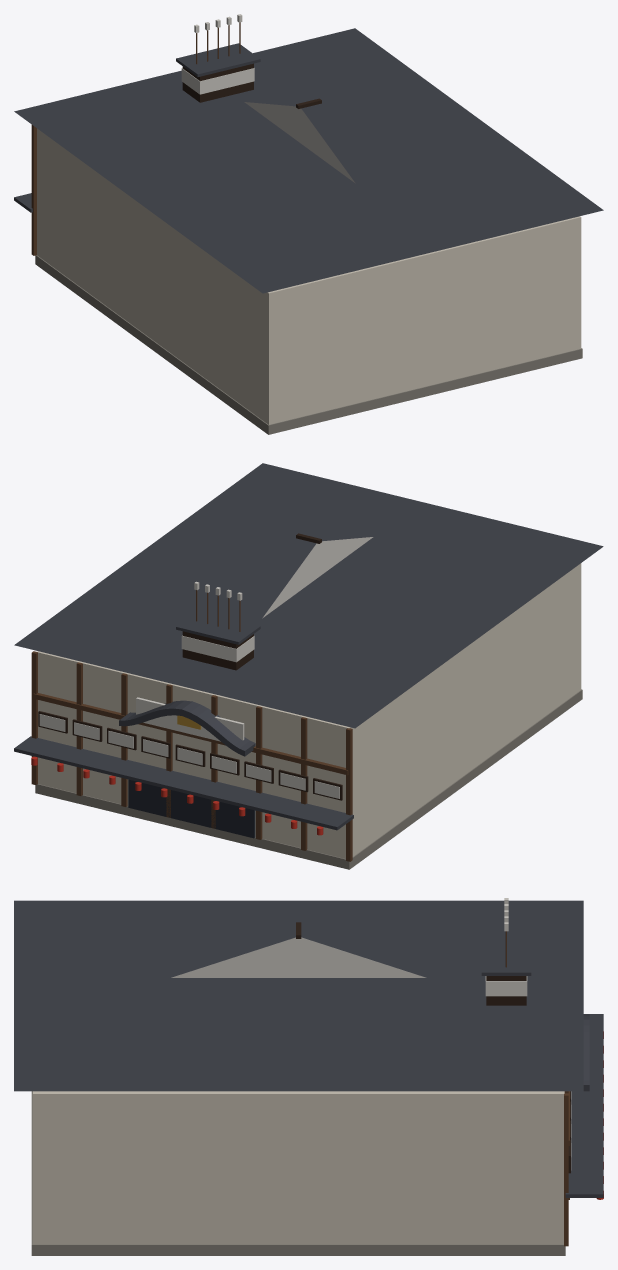
File: minamiza.glb
The picture shows the model from 3 angles, top to bottom: view 1: azimuth 30°, elevation 25°; view 2: azimuth 150°, elevation 25°; view 3: azimuth 270°, elevation 25°; orthographic projection. The views are drawn at different scales.
Size of the model in its own units: 38 by 23.9 by 49.72.
